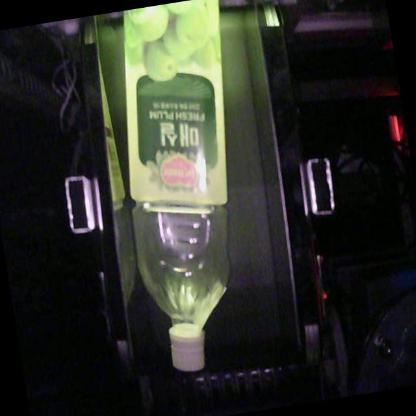Plastic Bottle: (124, 13, 228, 372)
